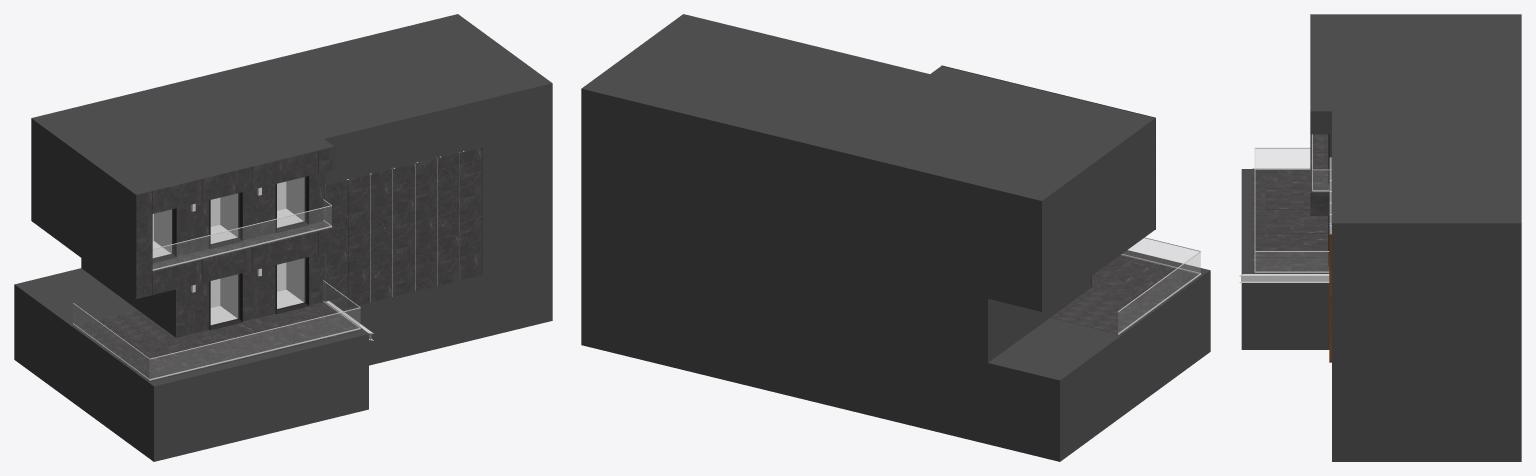
The model's file is EscenaTXT-transformed.glb.
The picture shows the model from 3 angles, left to right: view 1: azimuth 30°, elevation 25°; view 2: azimuth 150°, elevation 25°; view 3: azimuth 270°, elevation 25°; orthographic projection. The views are drawn at different scales.
Visible parts, largest first — view 1: CARCASA_EDIFICIO, PARED_FACHADA_TXT, CERAMICA_EDIFICIO, CRISTALES_BARANDILLAS, VENTANAS, BARANDILLAS; view 2: CARCASA_EDIFICIO, PARED_FACHADA_TXT, CERAMICA_EDIFICIO, CRISTALES_BARANDILLAS; view 3: PARED_FACHADA_TXT, CARCASA_EDIFICIO, CERAMICA_EDIFICIO, CRISTALES_BARANDILLAS, BARANDILLAS, Rectangle2926, PERFIL_007.
Boxes of the visible parts, x1,y1,x2,y2 form: CARCASA_EDIFICIO: (14, 70, 368, 461); PARED_FACHADA_TXT: (228, 14, 552, 365); CERAMICA_EDIFICIO: (72, 146, 363, 382); CRISTALES_BARANDILLAS: (73, 201, 360, 378); VENTANAS: (152, 176, 309, 330); BARANDILLAS: (73, 199, 360, 380); CARCASA_EDIFICIO: (828, 66, 1210, 461); PARED_FACHADA_TXT: (581, 14, 931, 405); CERAMICA_EDIFICIO: (941, 65, 1204, 334); CRISTALES_BARANDILLAS: (1118, 238, 1200, 332); PARED_FACHADA_TXT: (1332, 110, 1521, 461); CARCASA_EDIFICIO: (1241, 14, 1521, 349); CERAMICA_EDIFICIO: (1252, 14, 1329, 273); CRISTALES_BARANDILLAS: (1255, 149, 1328, 271); BARANDILLAS: (1254, 134, 1329, 272); Rectangle2926: (1239, 274, 1329, 282); PERFIL_007: (1329, 234, 1331, 362).
Size of what is drawn, in the model's own units: 24.18 by 12.39 by 13.28.
24 materials, 19 textured.
